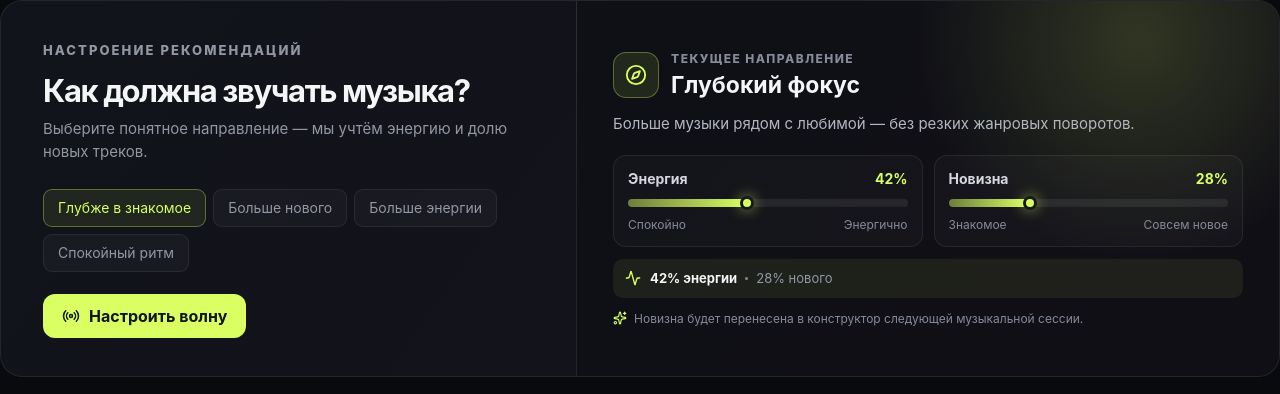
it: MoodMap › explains the selected direction with readable values
Expected: the text "Глубокий фокус" is shown, 671,71 -> 860,99
Expected: the slider named "Энергия" holds "42", 628,188 -> 908,216
Click the button "Больше энергии": (426, 208) 354,188 -> 497,226
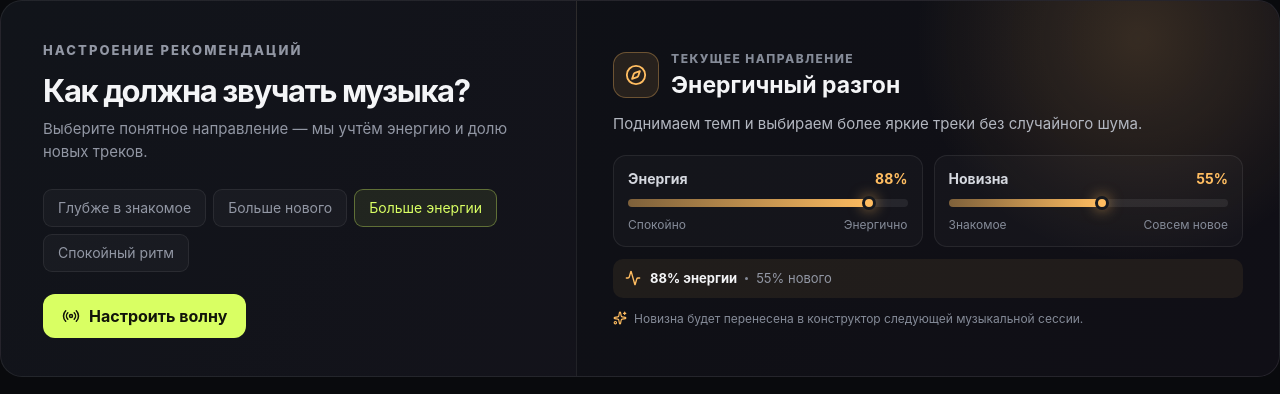
Expected: the text "Энергичный разгон" is shown, 671,71 -> 900,99
Expected: the slider named "Энергия" holds "88", 628,188 -> 908,216
